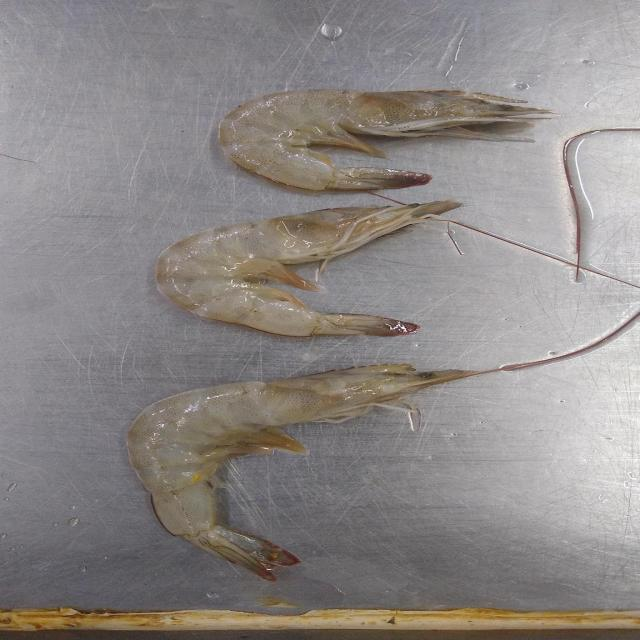shrimp: (127, 364, 480, 581), (156, 199, 462, 336), (220, 89, 551, 190)
